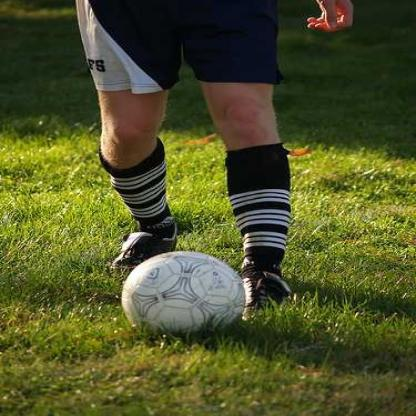ball: (120, 251, 247, 340)
